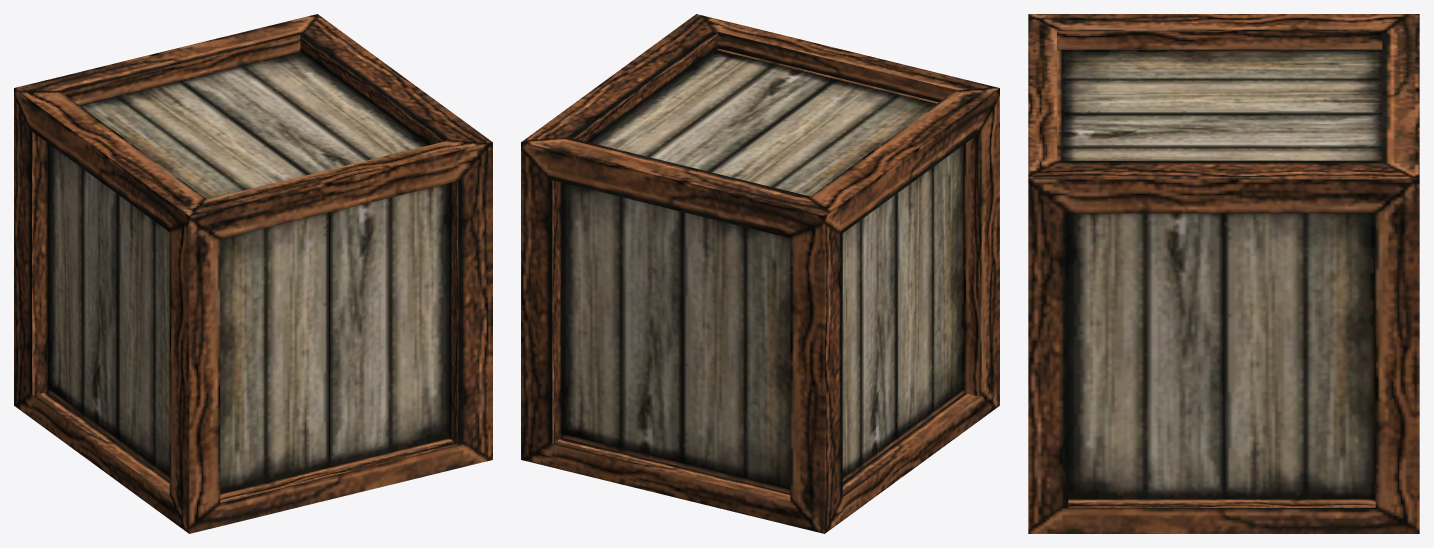
File: LVL_RIV_INST_CRATEC.fbx
The picture shows the model from 3 angles, left to right: view 1: azimuth 30°, elevation 25°; view 2: azimuth 150°, elevation 25°; view 3: azimuth 270°, elevation 25°; orthographic projection. The views are drawn at different scales.
Parts seen in each view (by area): view 1: LVL_RIV_INST_CRATEC; view 2: LVL_RIV_INST_CRATEC; view 3: LVL_RIV_INST_CRATEC.
Part boxes in pixels (x1,y1,x2,y2): LVL_RIV_INST_CRATEC: (14,14,492,533); LVL_RIV_INST_CRATEC: (521,14,999,533); LVL_RIV_INST_CRATEC: (1028,14,1419,533).
Bounding box in the file's own units: 8148 × 8148 × 8148.
Materials: 1 (1 with a texture image).
